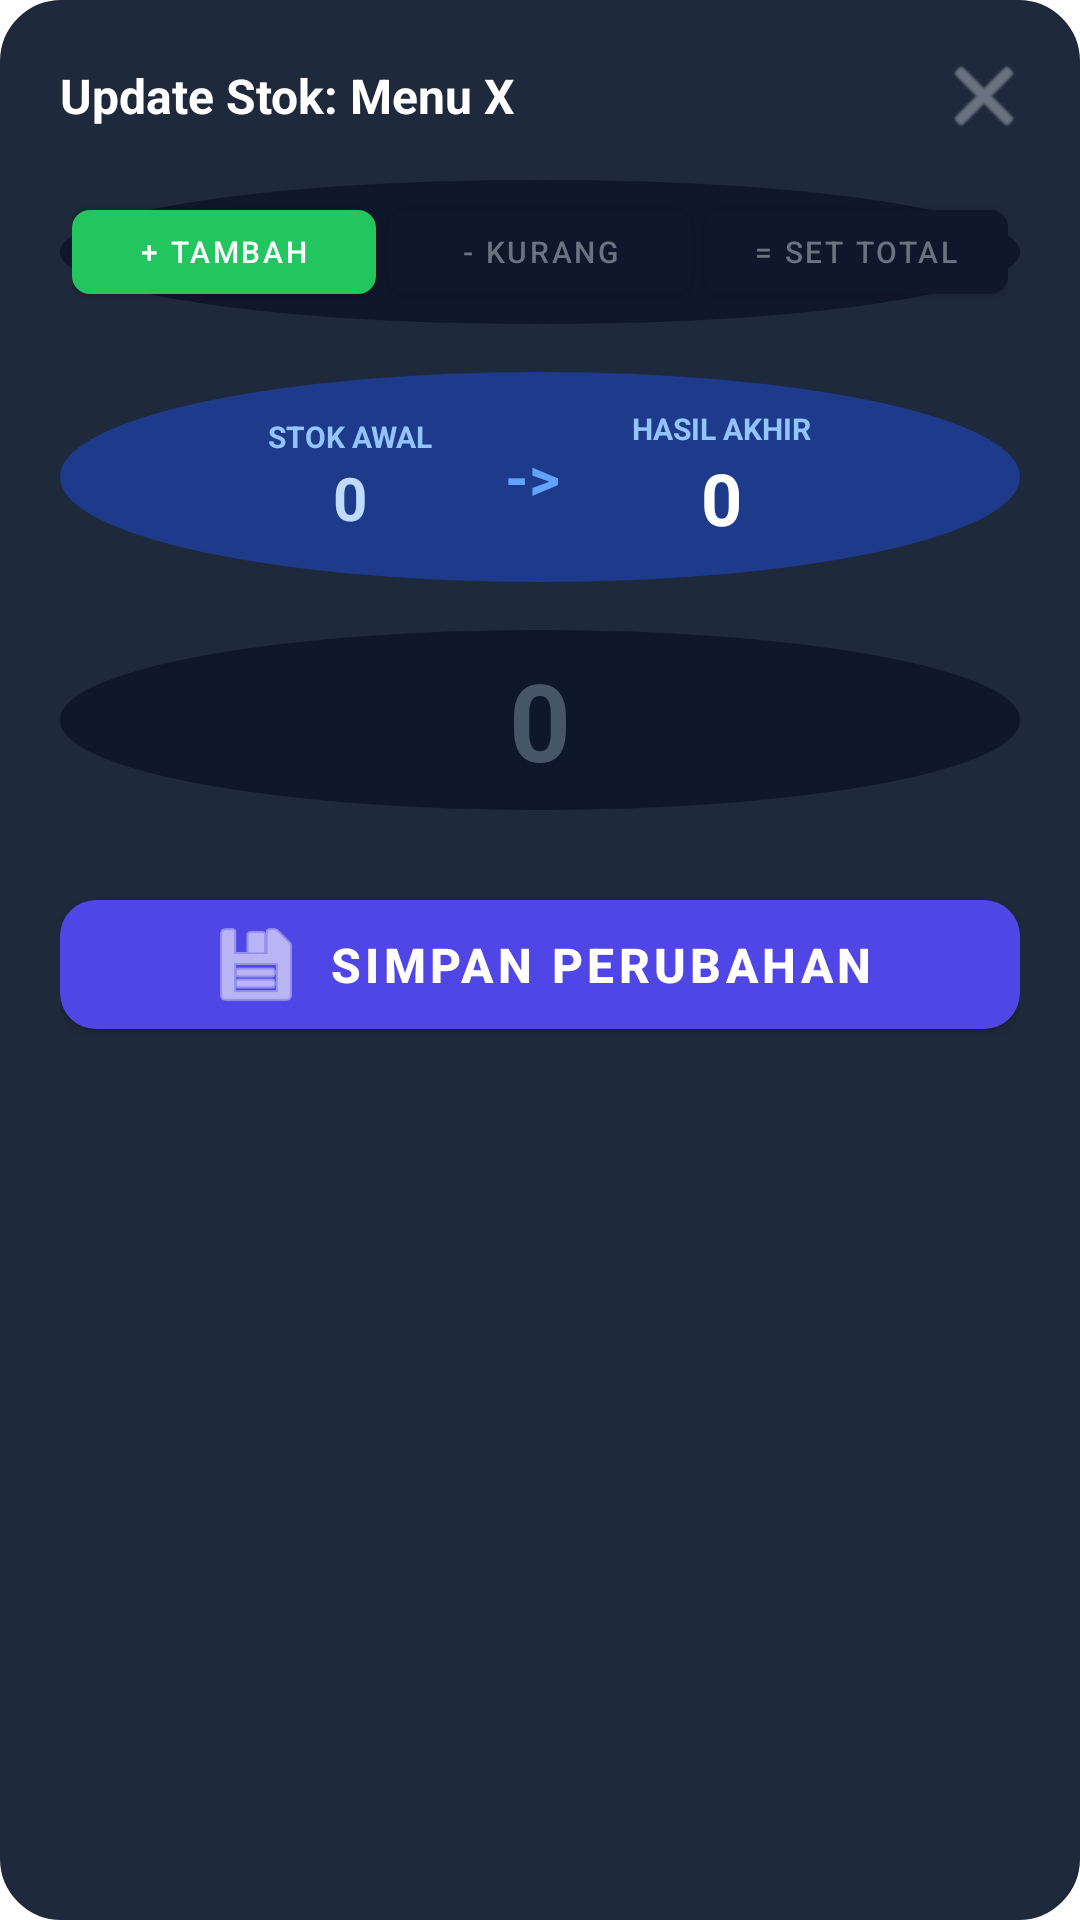

Point at icon controls on the screen. Image size 1080px x 1920px, points as (x,y).
close clear cancel: (984,96)
